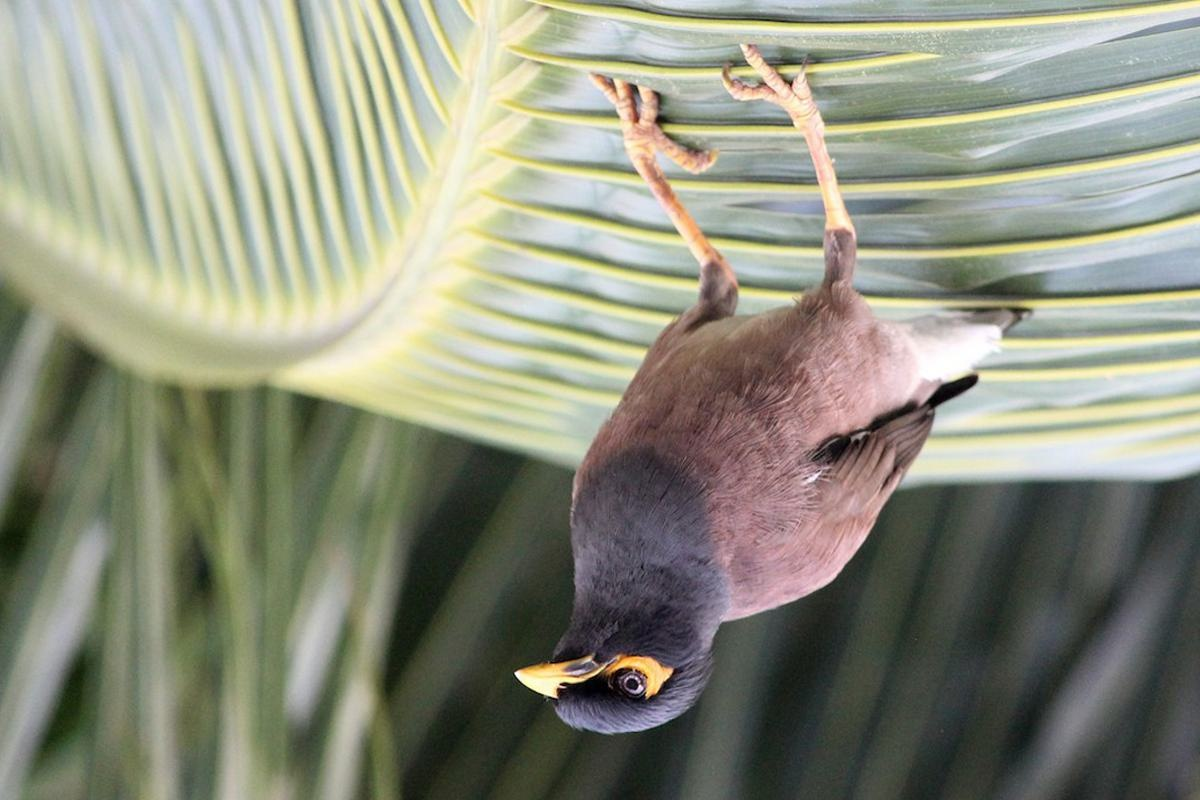myna: (491, 77, 949, 744)
